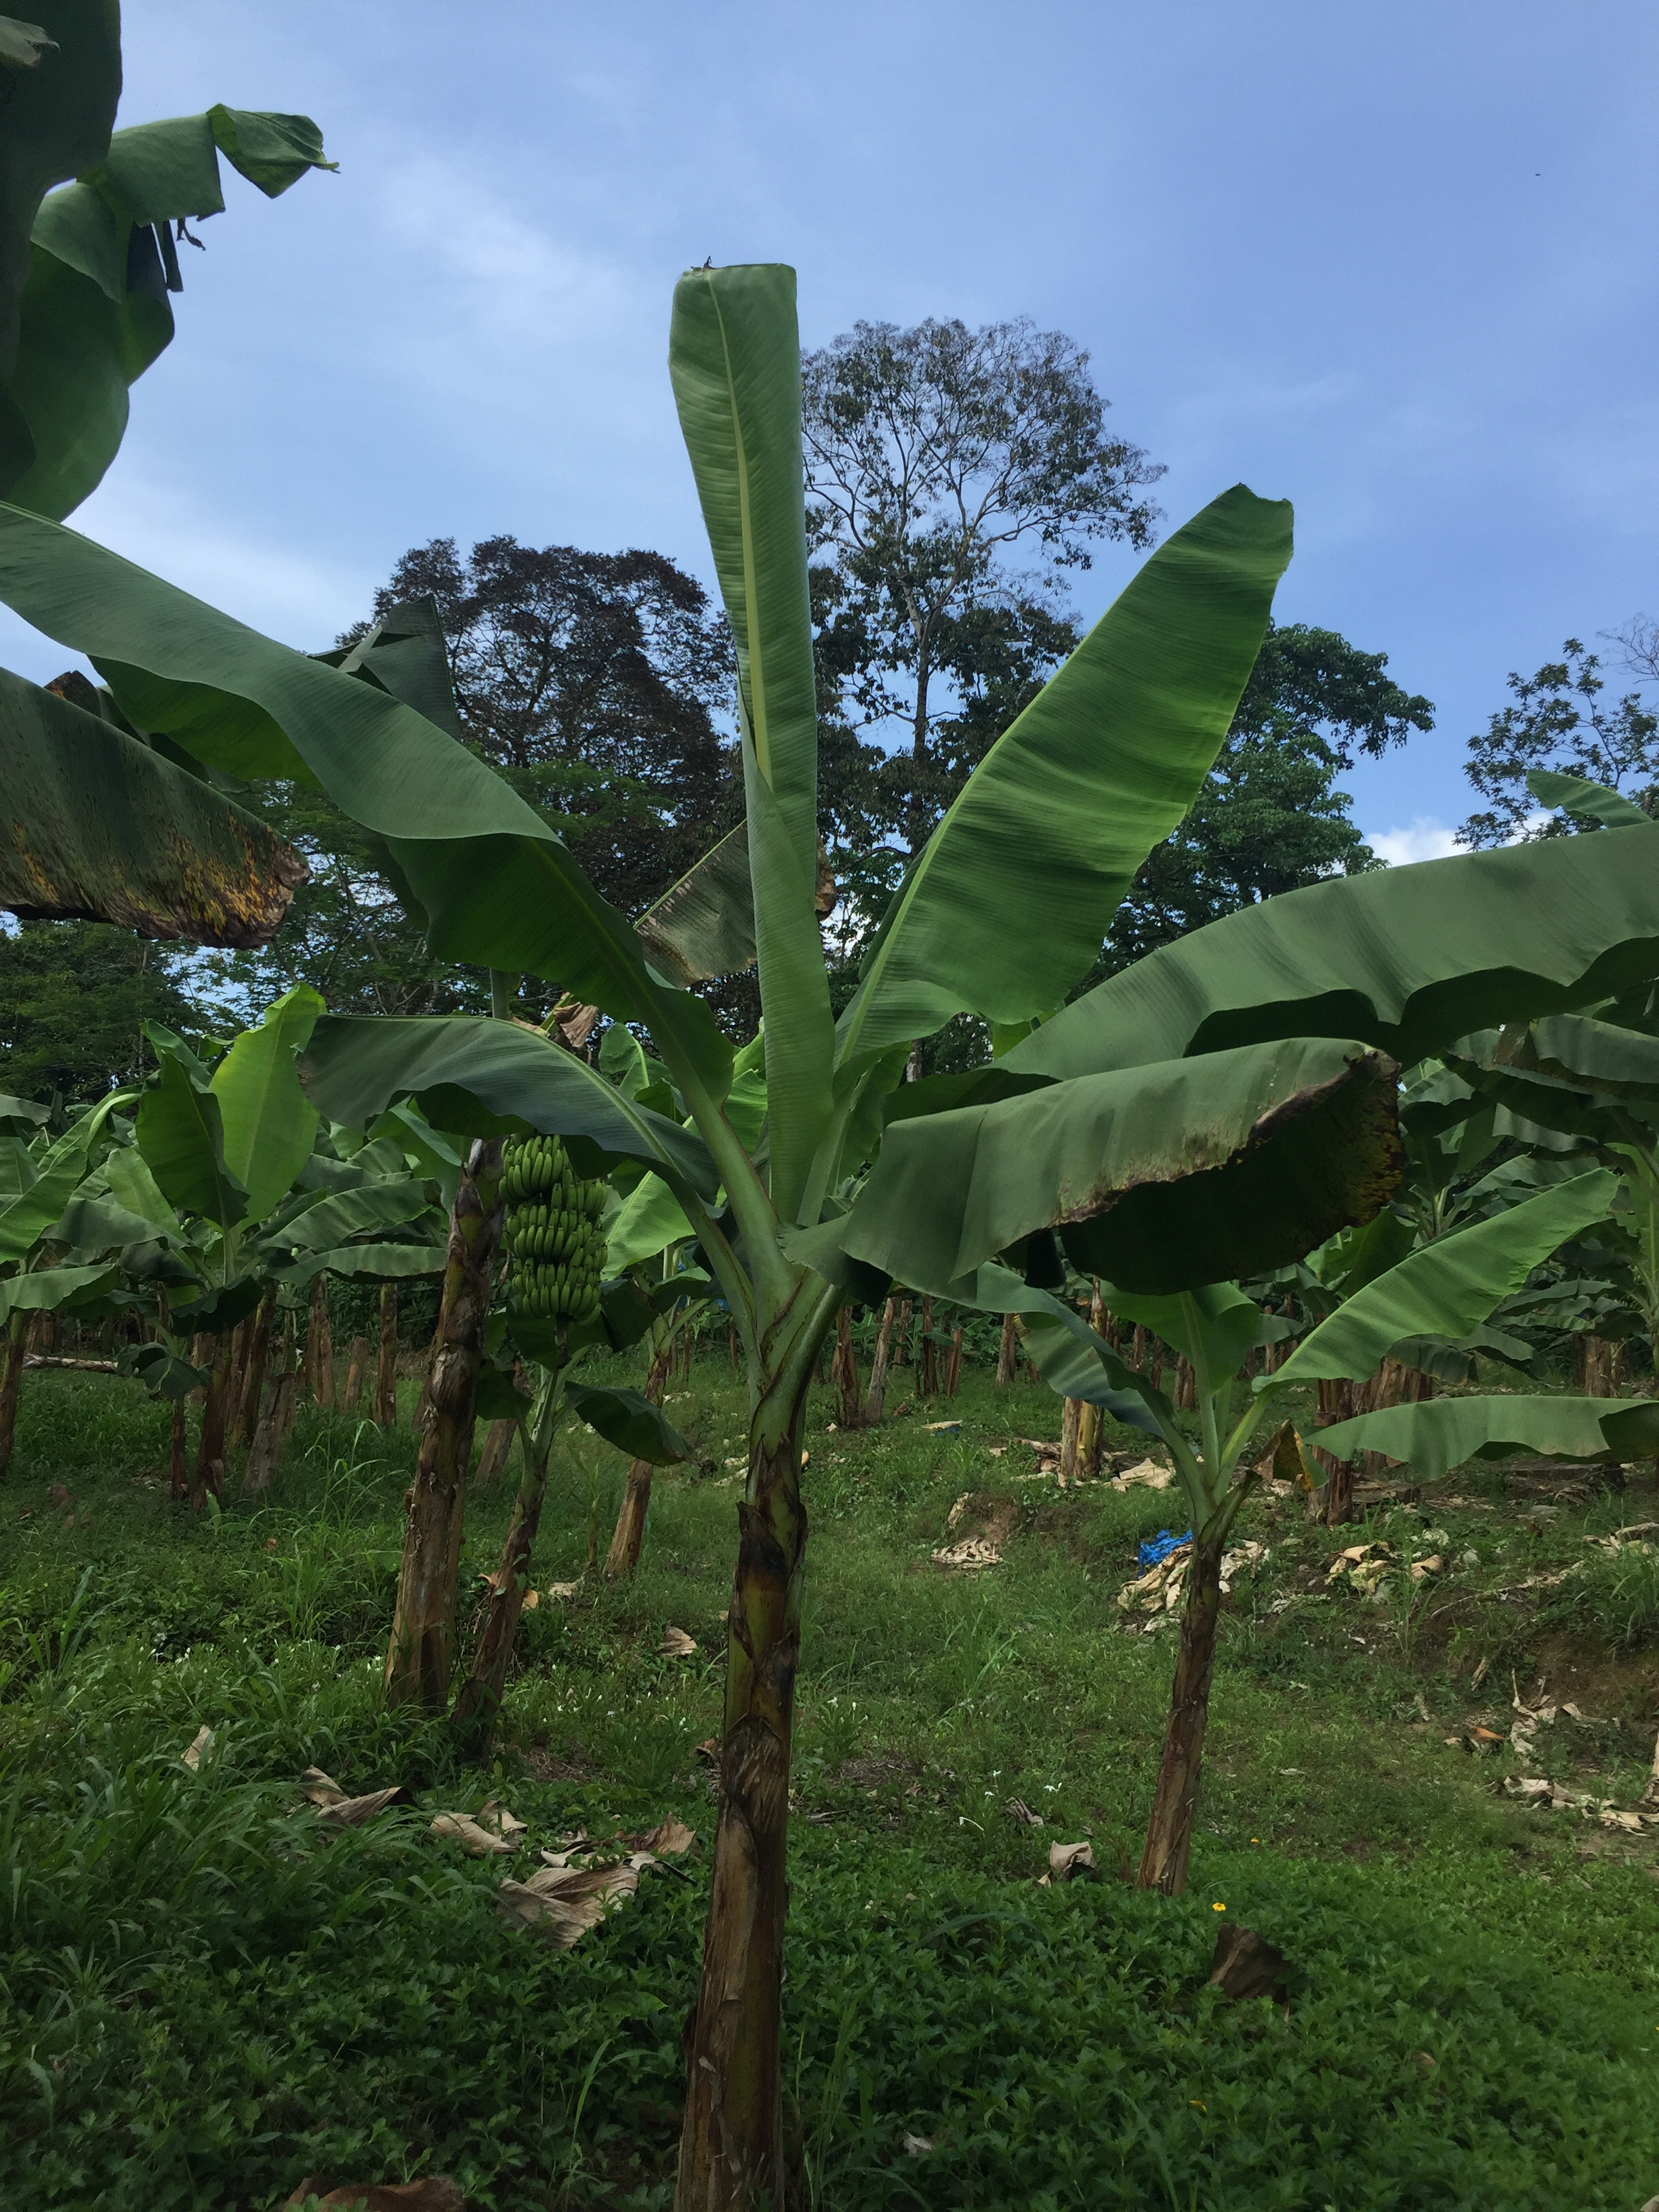candleleafs: (666, 256, 835, 1212)
